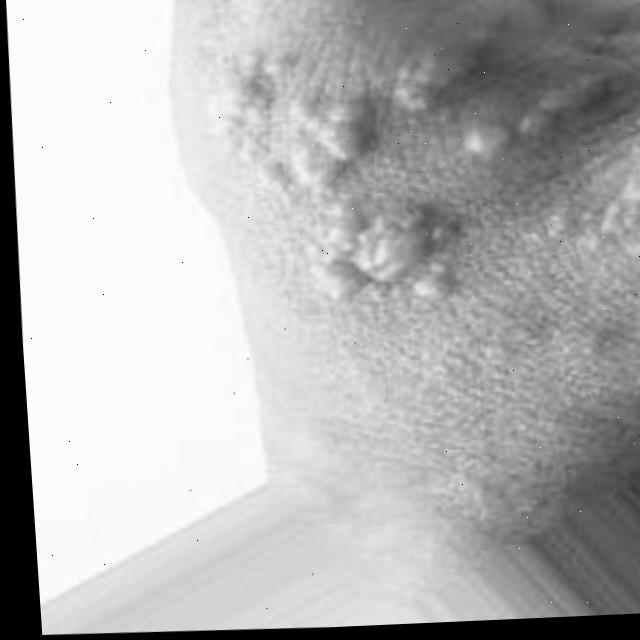Shingles: (186, 22, 467, 324), (453, 64, 615, 173), (384, 0, 502, 116)
